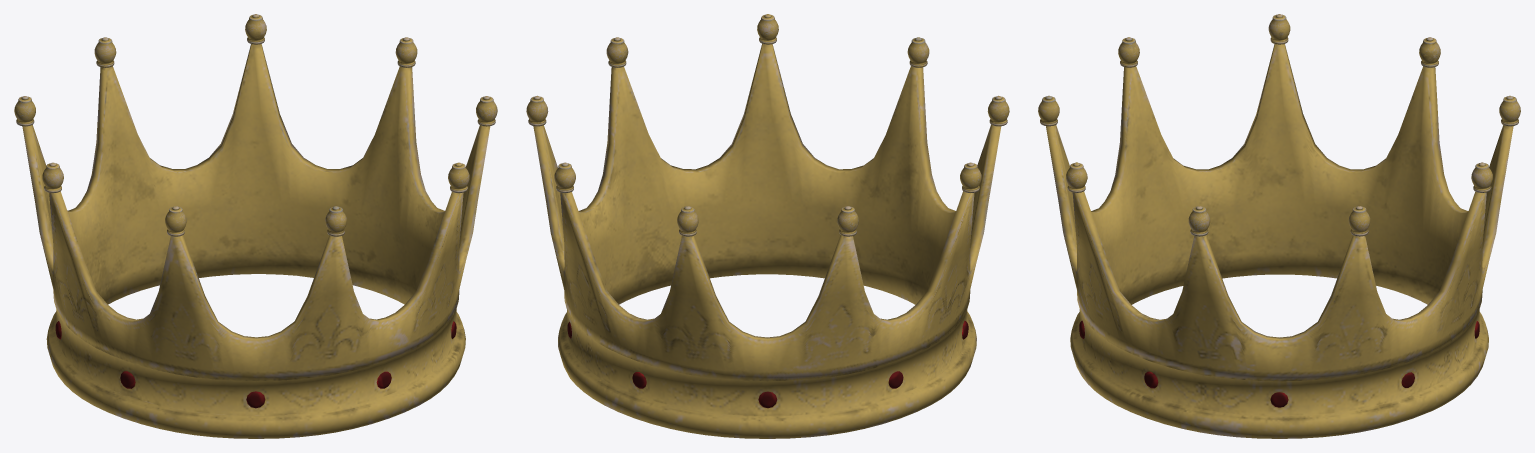
The model's file is crown.fbx.
3 renders of one model, left to right at view 1: azimuth 30°, elevation 25°; view 2: azimuth 150°, elevation 25°; view 3: azimuth 270°, elevation 25°, orthographic.
Visible parts, largest first — view 1: Iron crown triangulated; view 2: Iron crown triangulated; view 3: Iron crown triangulated.
Part boxes in pixels (bbox=[...]): Iron crown triangulated: bbox=[14, 14, 497, 438]; Iron crown triangulated: bbox=[526, 14, 1009, 438]; Iron crown triangulated: bbox=[1038, 14, 1520, 438].
Size of the model in its own units: 4.07 by 2.27 by 4.13.
Materials: 1 (1 with a texture image).
